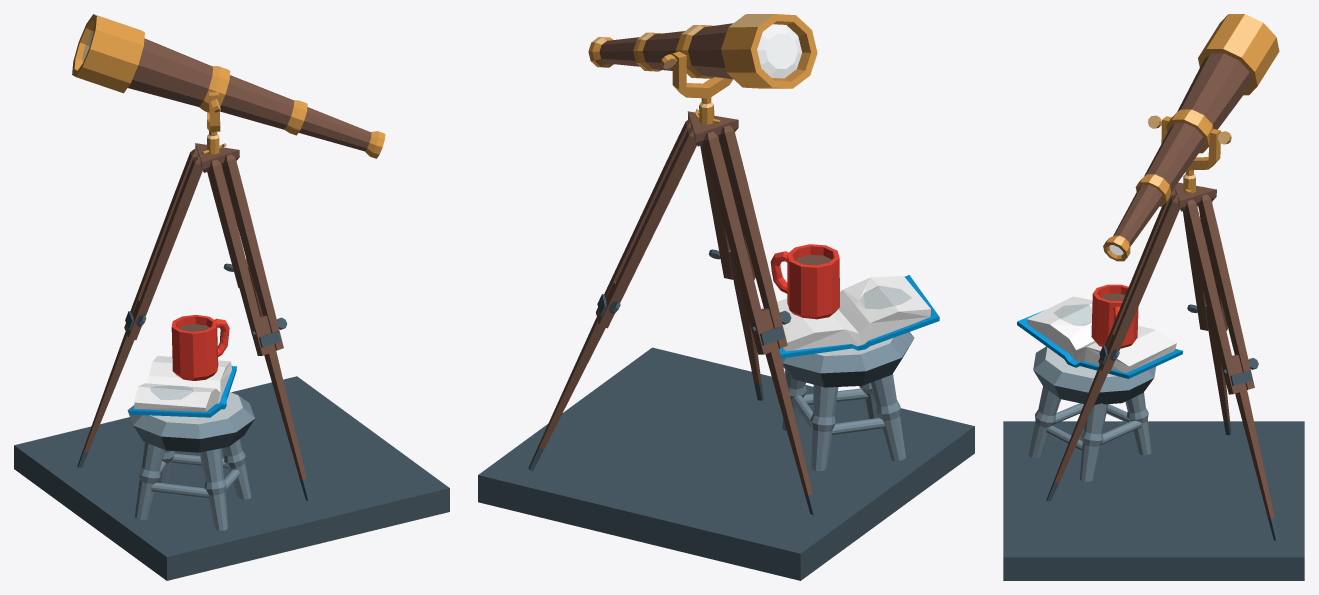
File: Telescope.glb
3 views of the same model, side by side, from view 1: azimuth 30°, elevation 25°; view 2: azimuth 150°, elevation 25°; view 3: azimuth 270°, elevation 25° (orthographic). The views are drawn at different scales.
Visible parts, largest first — view 1: group756371822, group64228703, group135009730; view 2: group756371822, group64228703, group135009730; view 3: group756371822, group64228703, group135009730.
Part boxes in pixels (x1,y1,x2,y2): group756371822: (14,376,449,580); group64228703: (72,14,385,500); group135009730: (127,315,254,530); group756371822: (478,347,974,580); group64228703: (528,14,817,515); group135009730: (761,244,939,471); group756371822: (1003,421,1304,580); group64228703: (1046,14,1279,540); group135009730: (1017,284,1182,481).
Bounding box in the file's own units: 1.26 × 1.94 × 1.16.
